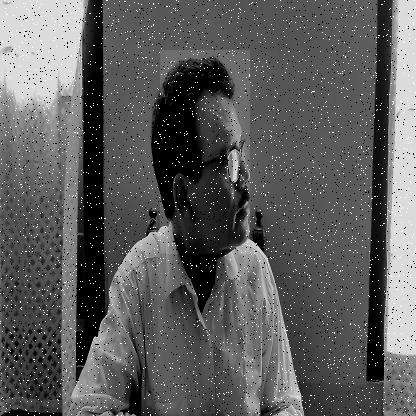Distracted: (160, 50, 250, 254)
